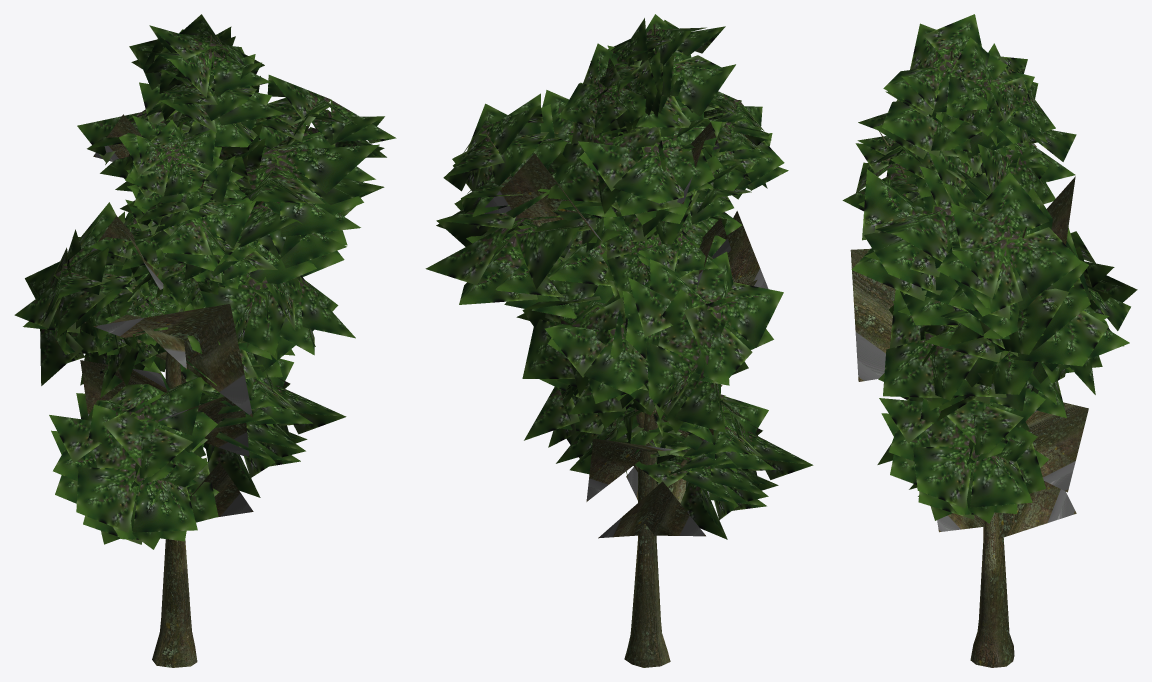
File: beech_a.DAE
3 views of the same model, side by side, from view 1: azimuth 30°, elevation 25°; view 2: azimuth 150°, elevation 25°; view 3: azimuth 270°, elevation 25° (orthographic). The views are drawn at different scales.
Parts seen in each view (by area): view 1: beech_a; view 2: beech_a; view 3: beech_a.
Boxes of the visible parts, left/top/right/bottom form: beech_a: left=14, top=14, right=396, bottom=667; beech_a: left=425, top=14, right=813, bottom=667; beech_a: left=842, top=14, right=1137, bottom=667.
Size of what is drawn, in the model's own units: 414 by 320 by 751.
